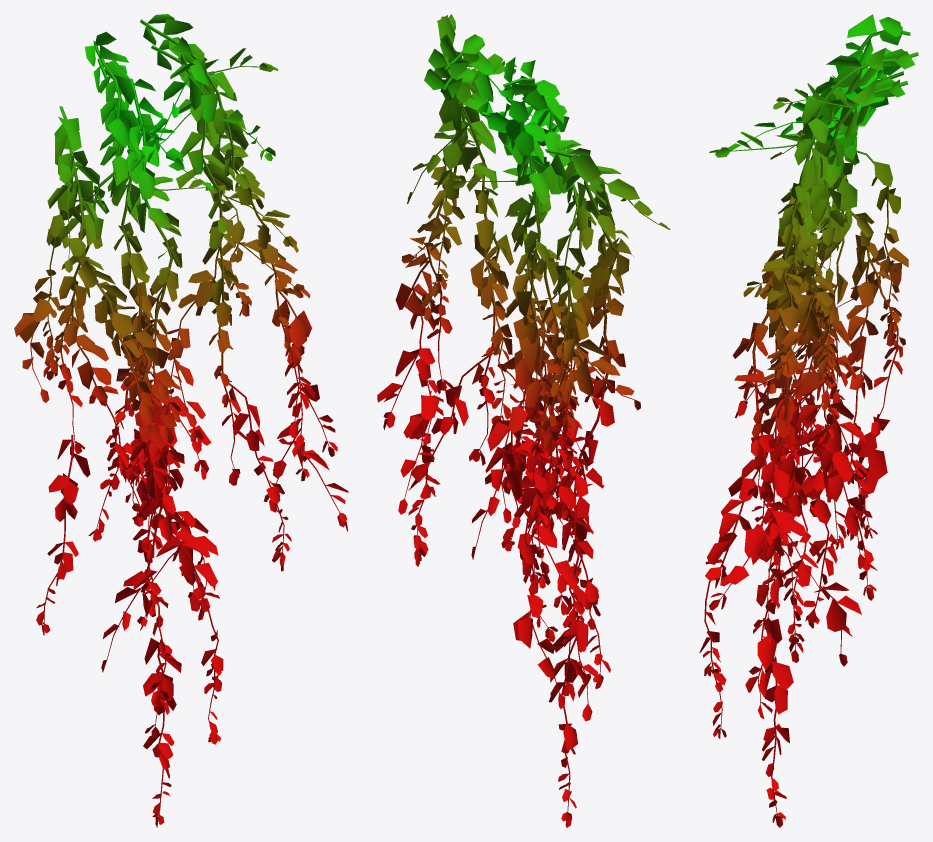
File: Var3_LOD3.fbx
The picture shows the model from 3 angles, left to right: view 1: azimuth 30°, elevation 25°; view 2: azimuth 150°, elevation 25°; view 3: azimuth 270°, elevation 25°; orthographic projection. The views are drawn at different scales.
Visible parts, largest first — view 1: _j1jw_Var3_LOD3; view 2: _j1jw_Var3_LOD3; view 3: _j1jw_Var3_LOD3.
Part boxes in pixels (left/top/right/bottom): _j1jw_Var3_LOD3: left=14, top=14, right=348, bottom=827; _j1jw_Var3_LOD3: left=377, top=14, right=670, bottom=827; _j1jw_Var3_LOD3: left=699, top=14, right=918, bottom=827.
Bounding box in the file's own units: 75.07 × 198 × 48.57.
